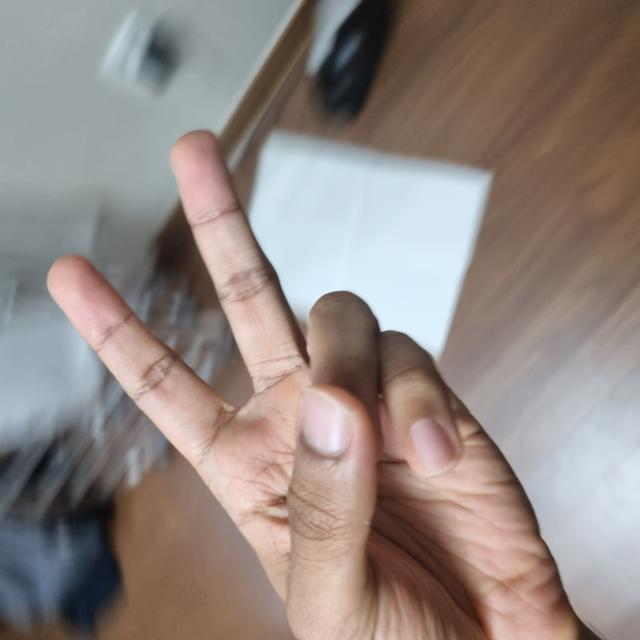Scissors: (0, 59, 508, 632)
